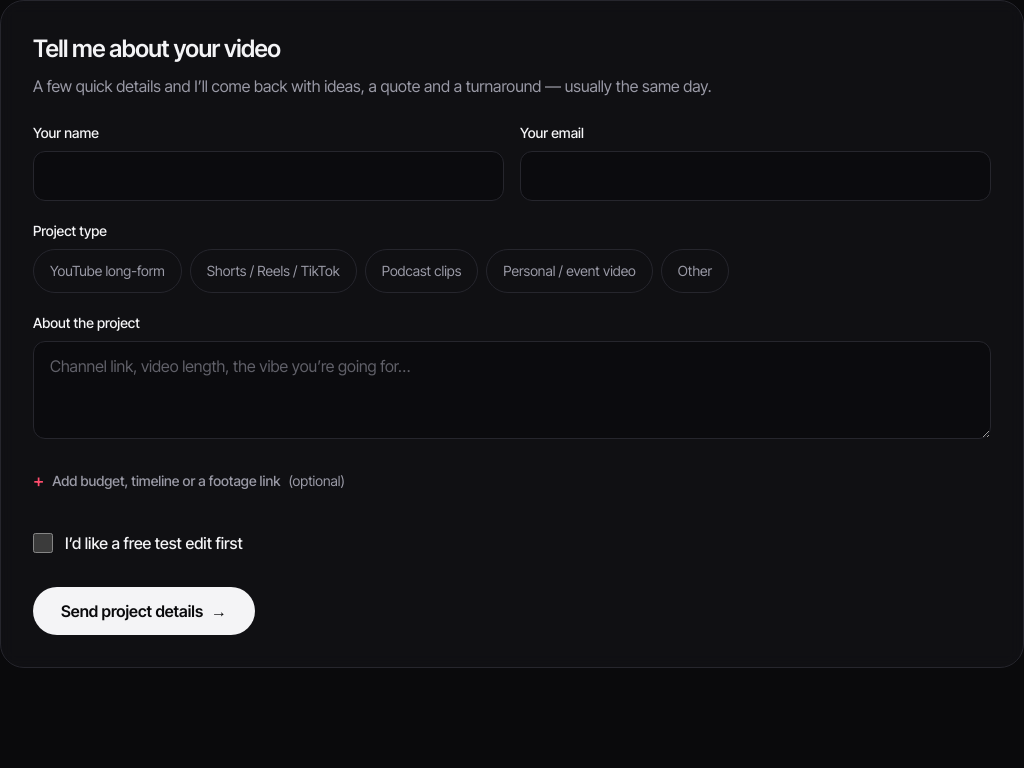
InquiryForm › when it can send directly › sends the inquiry, shows progress, then confirms it was sent
The width and height of the screenshot is (1024, 768).
In the field labelled "Your name": (268, 176) [33,151,504,201], type "Sam Carter"
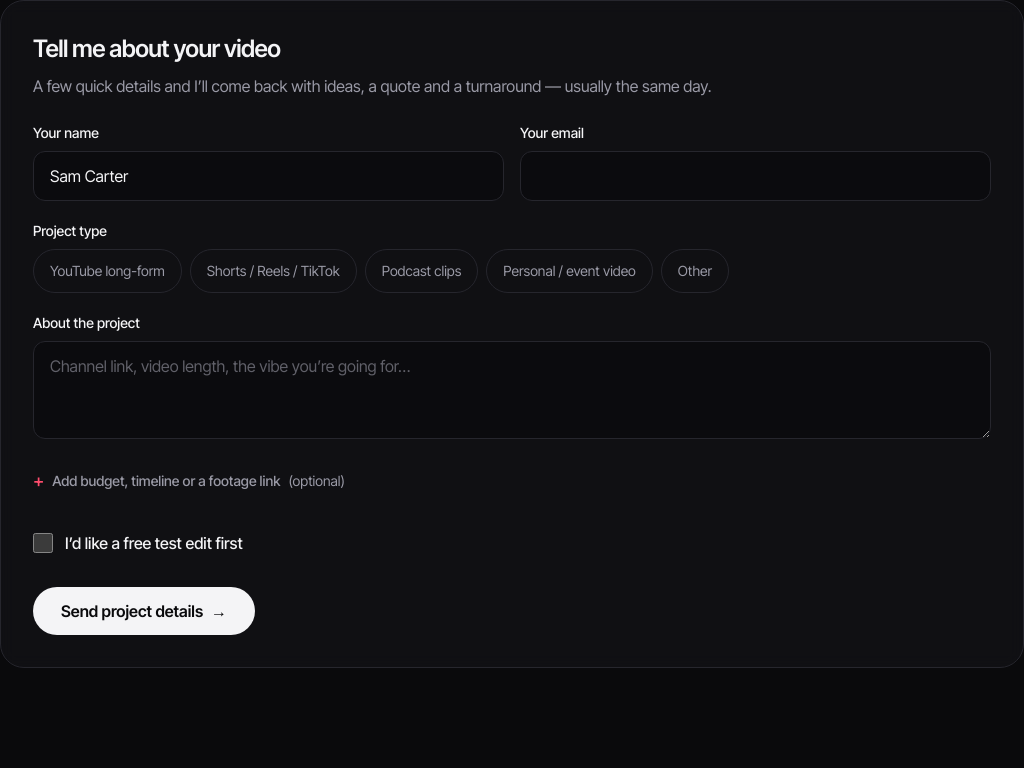
In the field labelled "Your email": (756, 176) [520,151,991,201], type "sam@example.com"
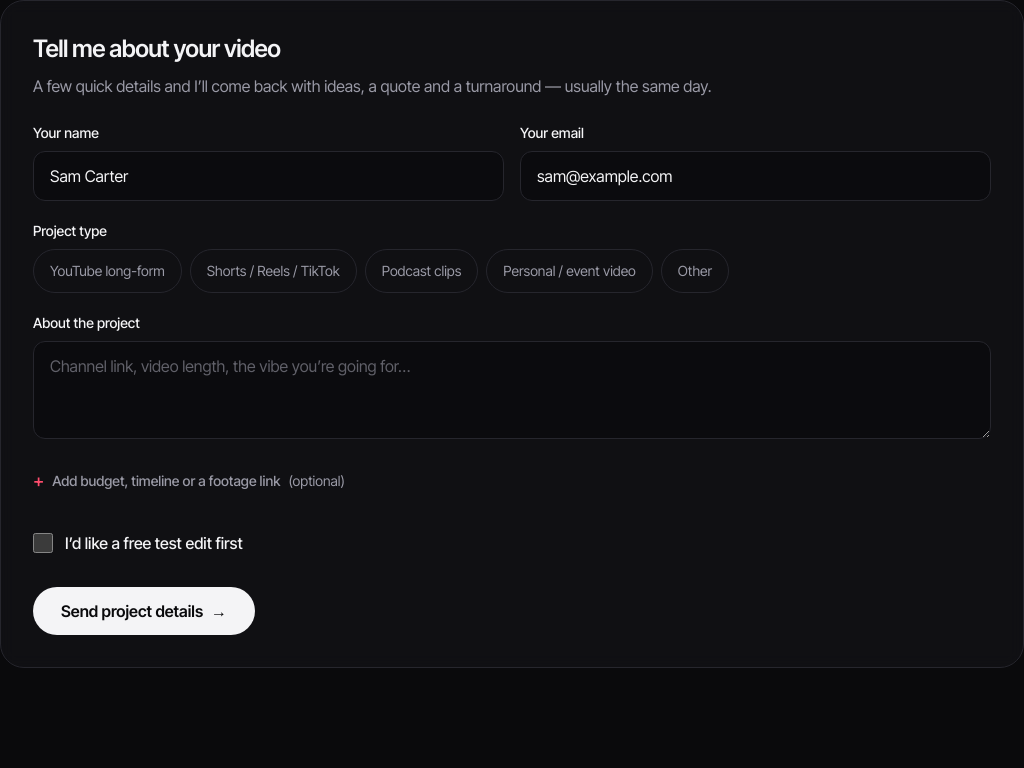
Click the radio button labelled "YouTube long-form": (107, 271) [33,249,182,293]
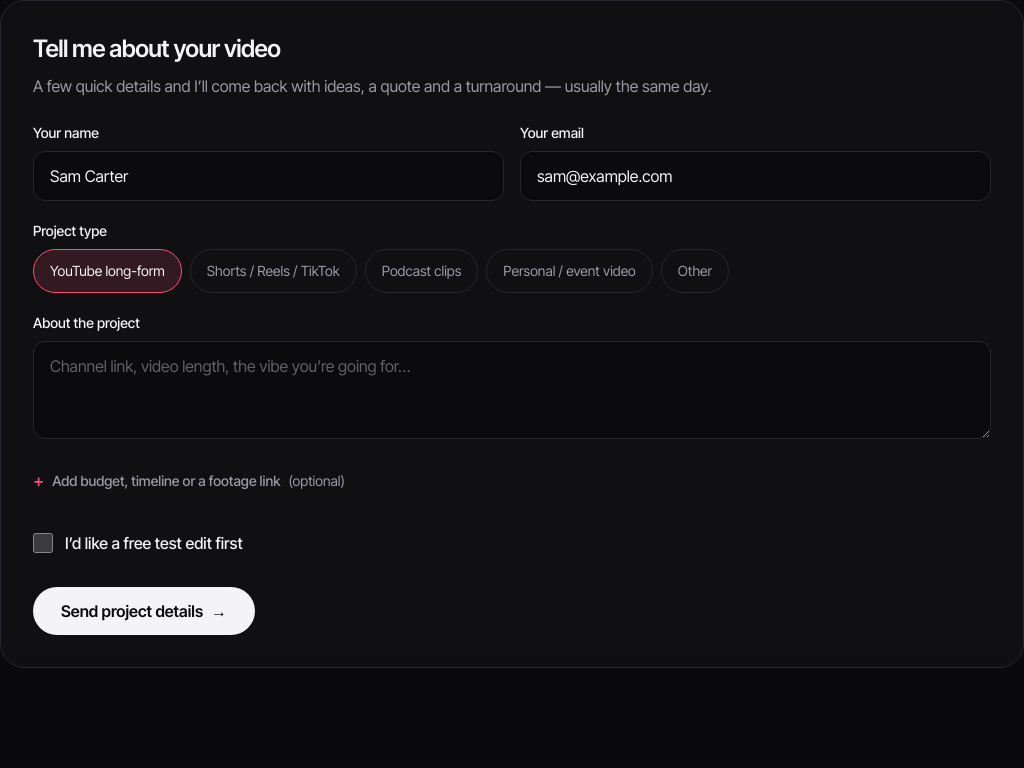
In the text box labelled "About the project": (512, 390) [33,341,991,439], type "Weekly vlog, ~15 minutes."
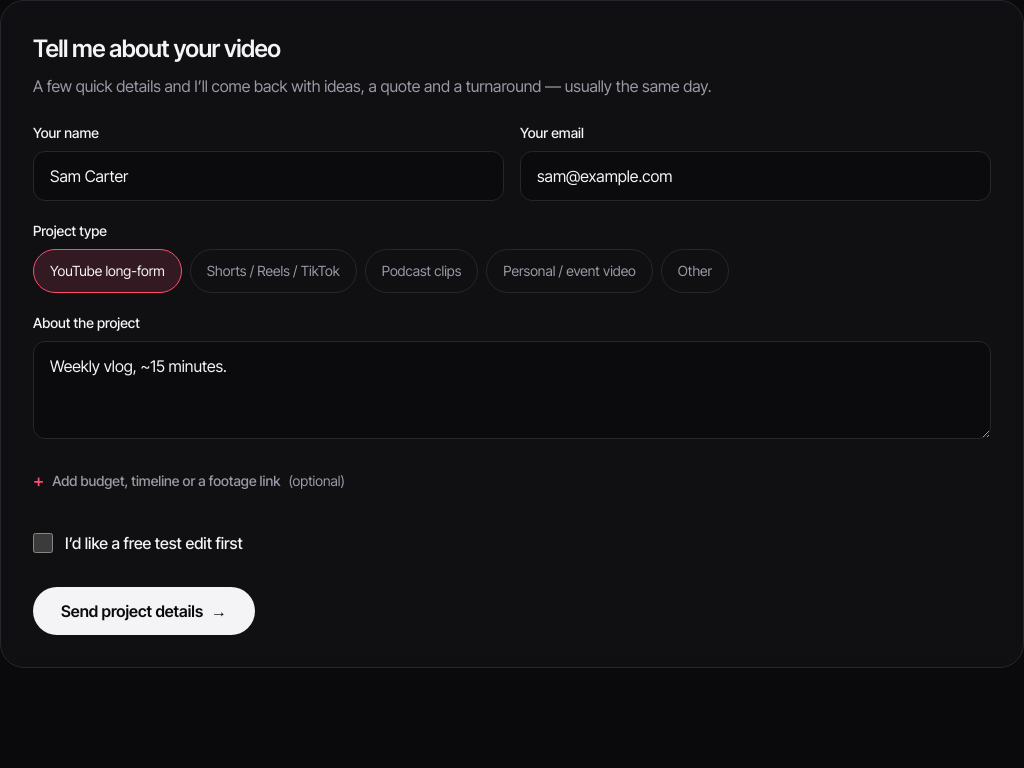
Click the button "Send project details →": (144, 611) [33,587,255,635]
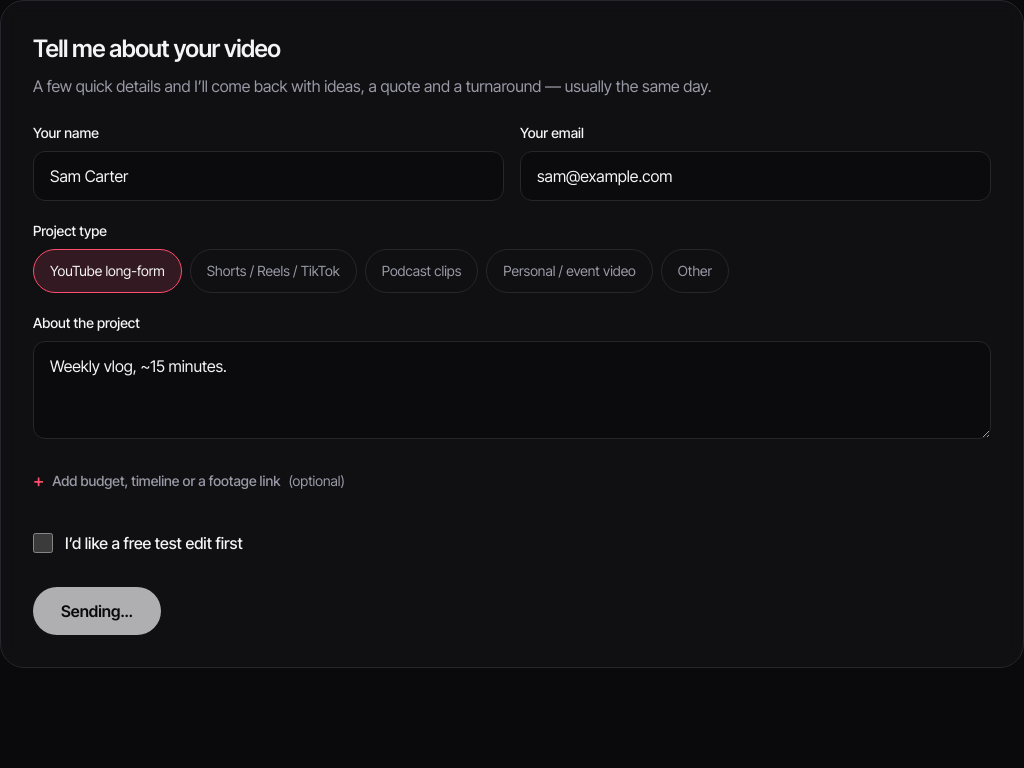
Result: the button "Sending…" is disabled
Click the button "Sending…": (97, 611) [33,587,161,635]
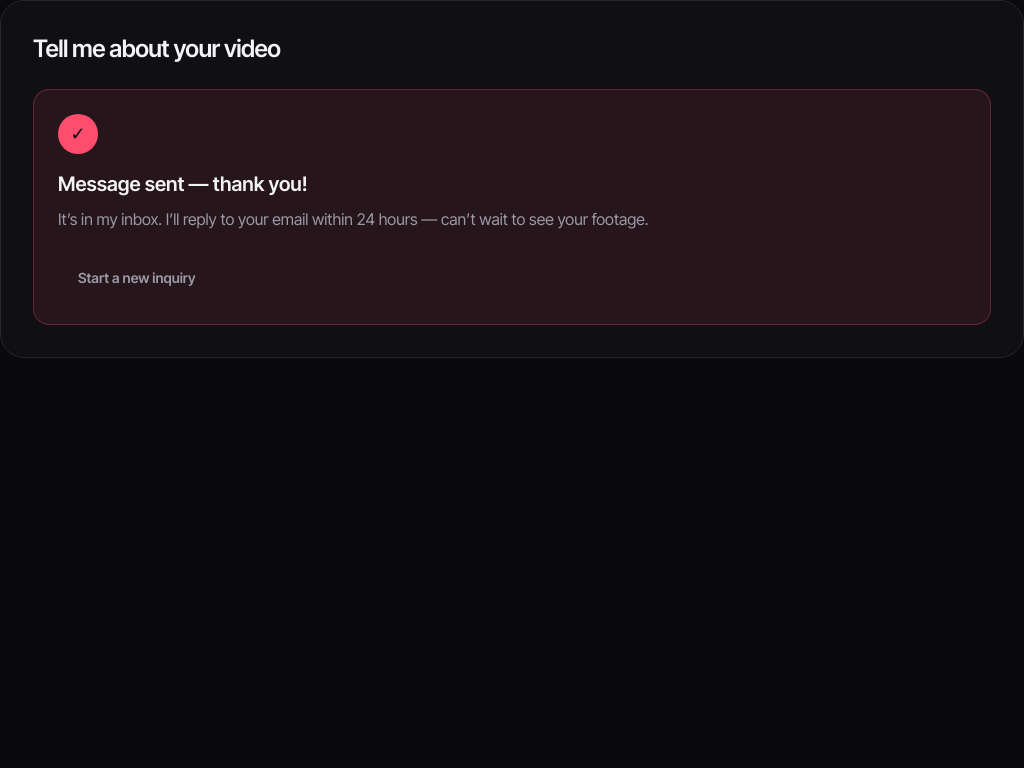
Result: the message shows "Message sent — thank you!" at [58,172,308,196]
